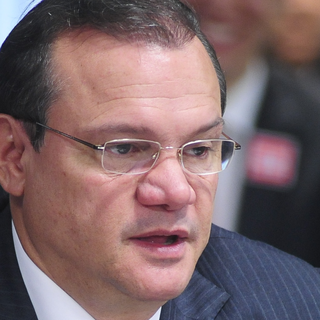eye: (177, 139, 219, 163), (103, 135, 141, 160)
